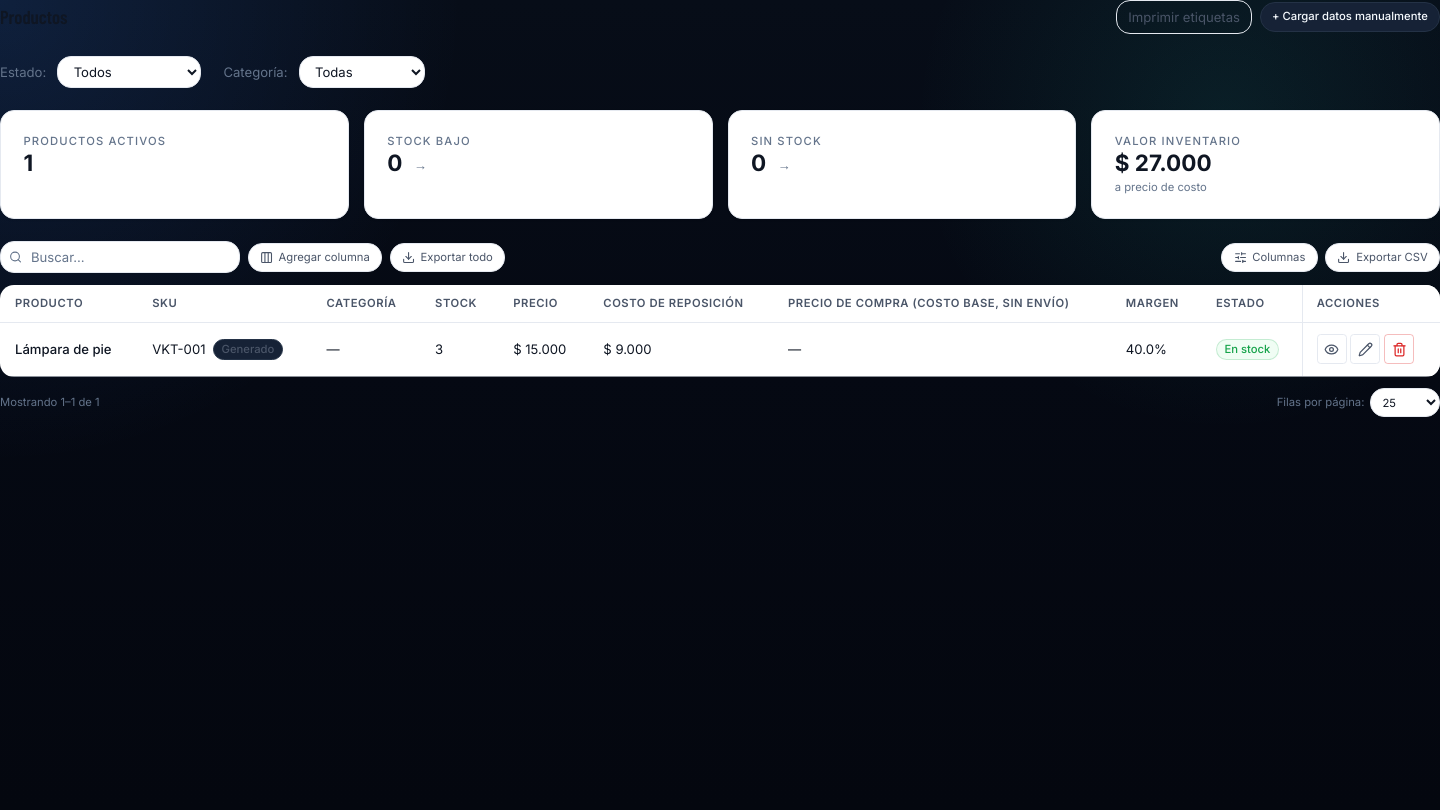
Test: un producto que ya tiene stock inicial no ofrece la opción
Click the button named "Editar producto": (1365, 349) [1350,334,1380,364]
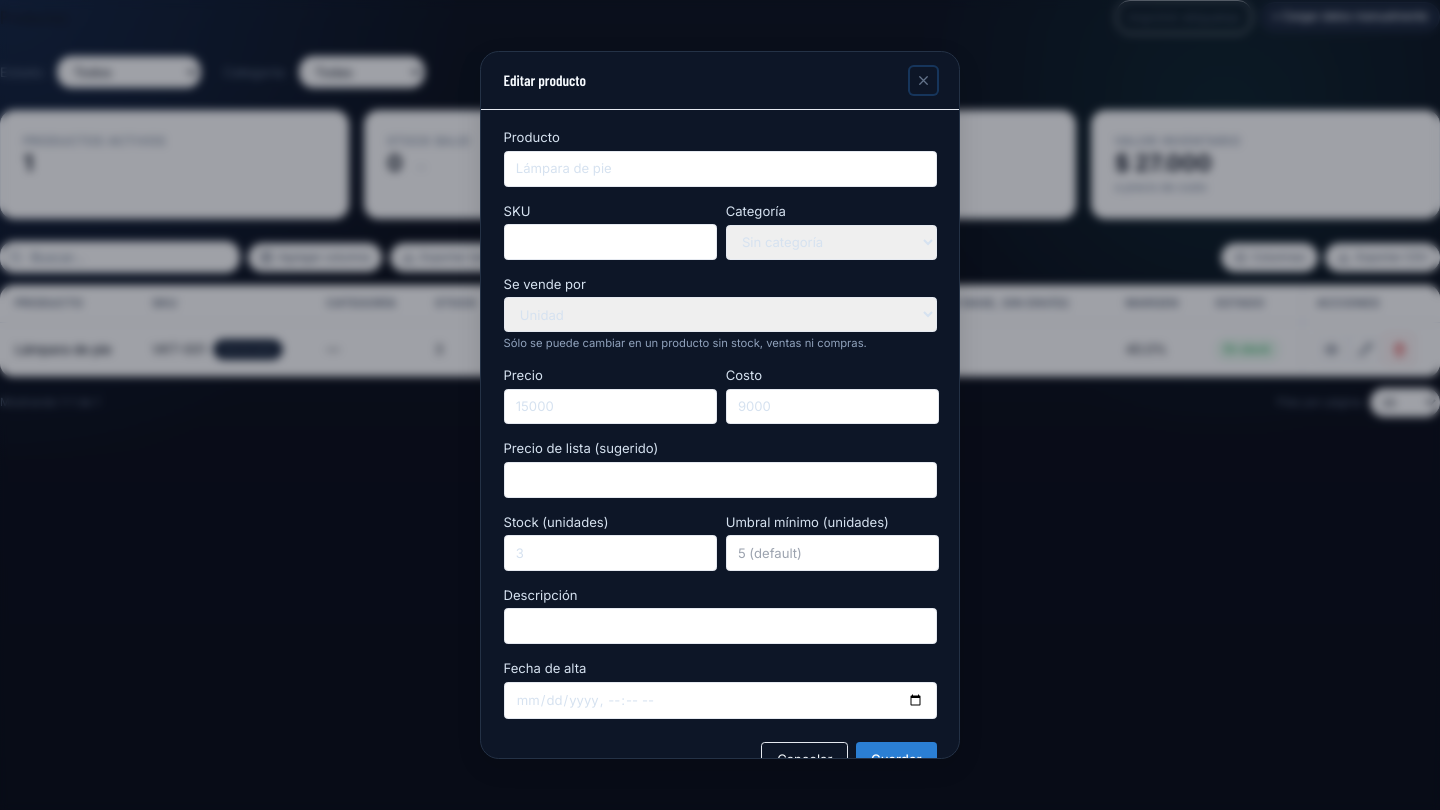
Replace the text in the field labelled "Stock (unidades)" with "10": (610, 553) [504,535,717,571]
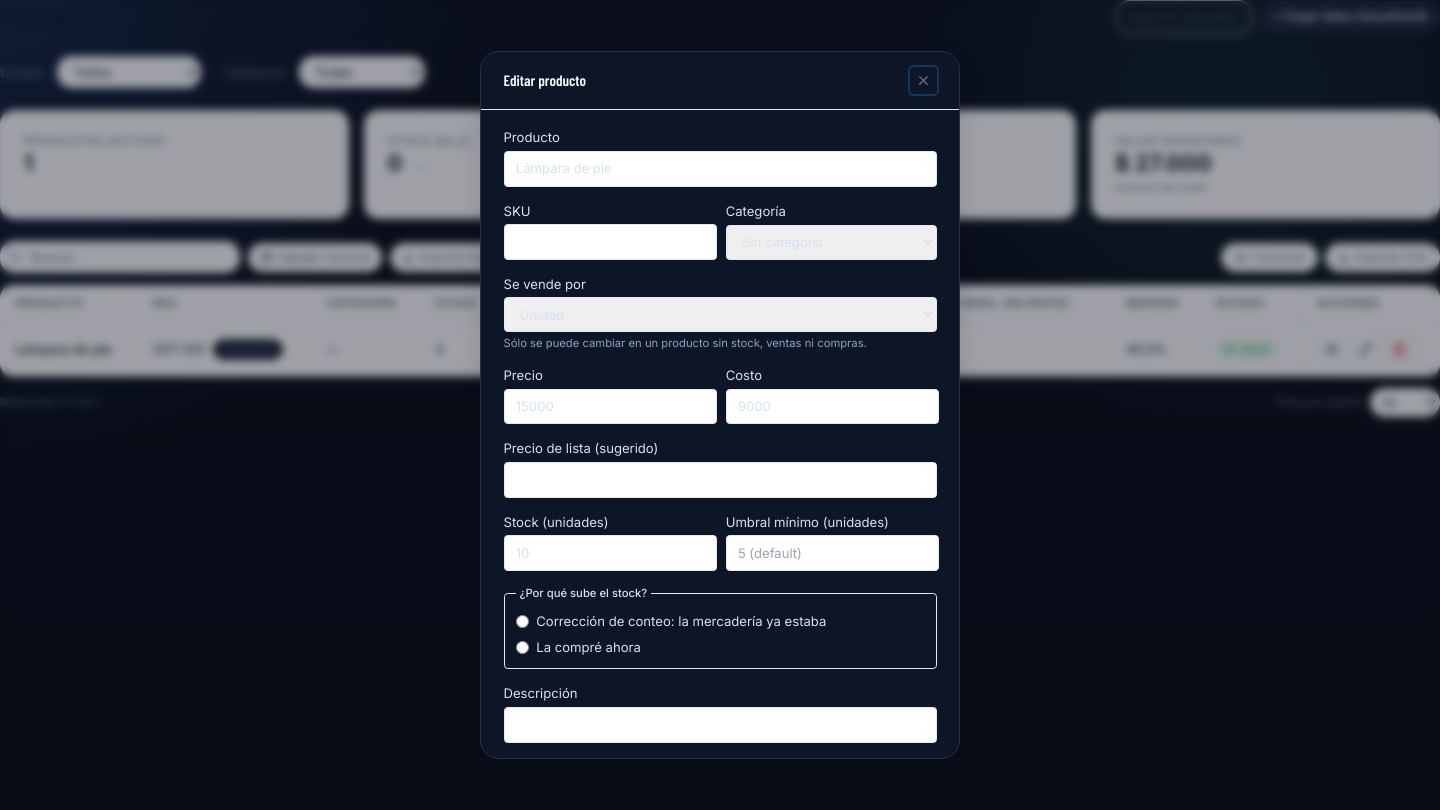
Expected: the text "¿Por qué sube el stock?" is shown, [516,586,651,601]
